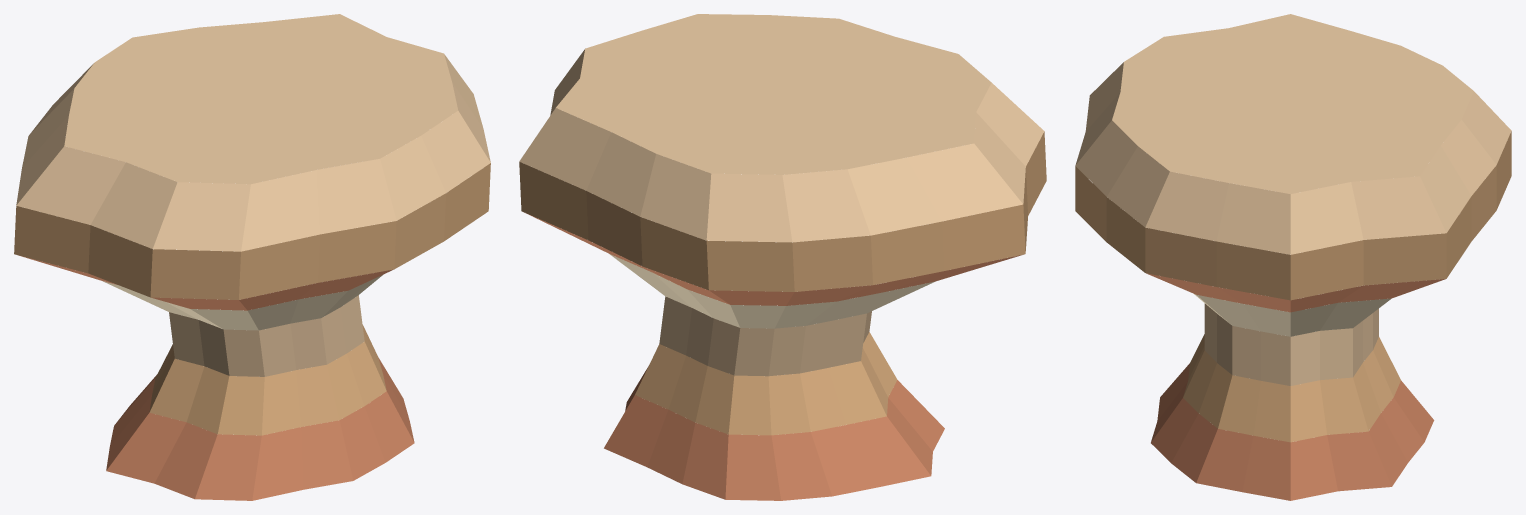
The model's file is hoodoo.glb.
3 views of the same model, side by side, from view 1: azimuth 30°, elevation 25°; view 2: azimuth 150°, elevation 25°; view 3: azimuth 270°, elevation 25° (orthographic). The views are drawn at different scales.
Parts seen in each view (by area): view 1: mushroom-hoodoo; view 2: mushroom-hoodoo; view 3: mushroom-hoodoo.
Part boxes in pixels (bbox=[...]): mushroom-hoodoo: bbox=[14, 14, 490, 500]; mushroom-hoodoo: bbox=[519, 14, 1046, 500]; mushroom-hoodoo: bbox=[1075, 14, 1511, 500].
Size of the model in its own units: 4.31 by 3 by 3.64.
